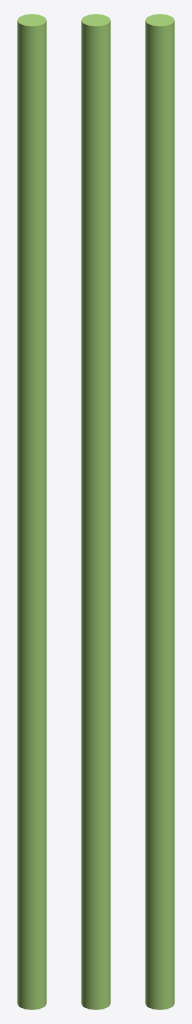
Rendered from Pillar_01_x3_Lod0.fbx.
The picture shows the model from 3 angles, left to right: view 1: azimuth 30°, elevation 25°; view 2: azimuth 150°, elevation 25°; view 3: azimuth 330°, elevation 25°; orthographic projection.
Visible parts, largest first — view 1: Pillar_01_x3_Lod0; view 2: Pillar_01_x3_Lod0; view 3: Pillar_01_x3_Lod0.
Part boxes in pixels (left/top/right/bottom): Pillar_01_x3_Lod0: left=17, top=14, right=46, bottom=1009; Pillar_01_x3_Lod0: left=81, top=14, right=110, bottom=1009; Pillar_01_x3_Lod0: left=145, top=14, right=174, bottom=1009.
Bounding box in the file's own units: 23.57 × 867 × 23.57.
